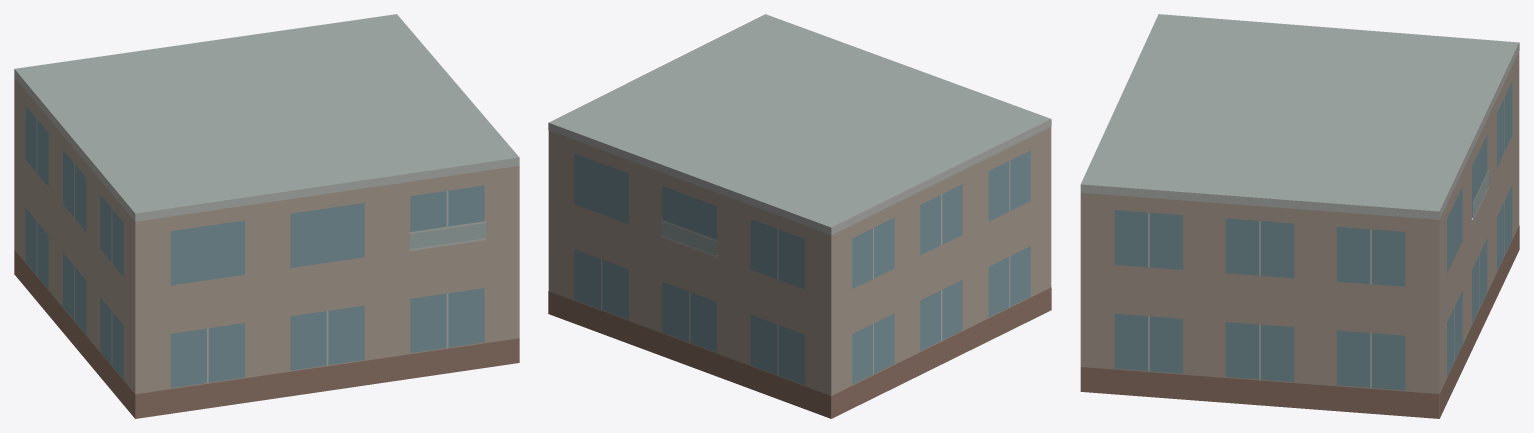
The model's file is survey-upis-32814918.glb.
3 renders of one model, left to right at view 1: azimuth 30°, elevation 25°; view 2: azimuth 150°, elevation 25°; view 3: azimuth 270°, elevation 25°, orthographic. The views are drawn at different scales.
Visible parts, largest first — view 1: survey-upis-32814918.tmp; view 2: survey-upis-32814918.tmp; view 3: survey-upis-32814918.tmp.
Boxes of the visible parts, x1,y1,x2,y2 form: survey-upis-32814918.tmp: (14,14,519,418); survey-upis-32814918.tmp: (548,14,1051,418); survey-upis-32814918.tmp: (1080,14,1519,418).
Bounding box in the file's own units: 12.47 × 6.1 × 11.71.
